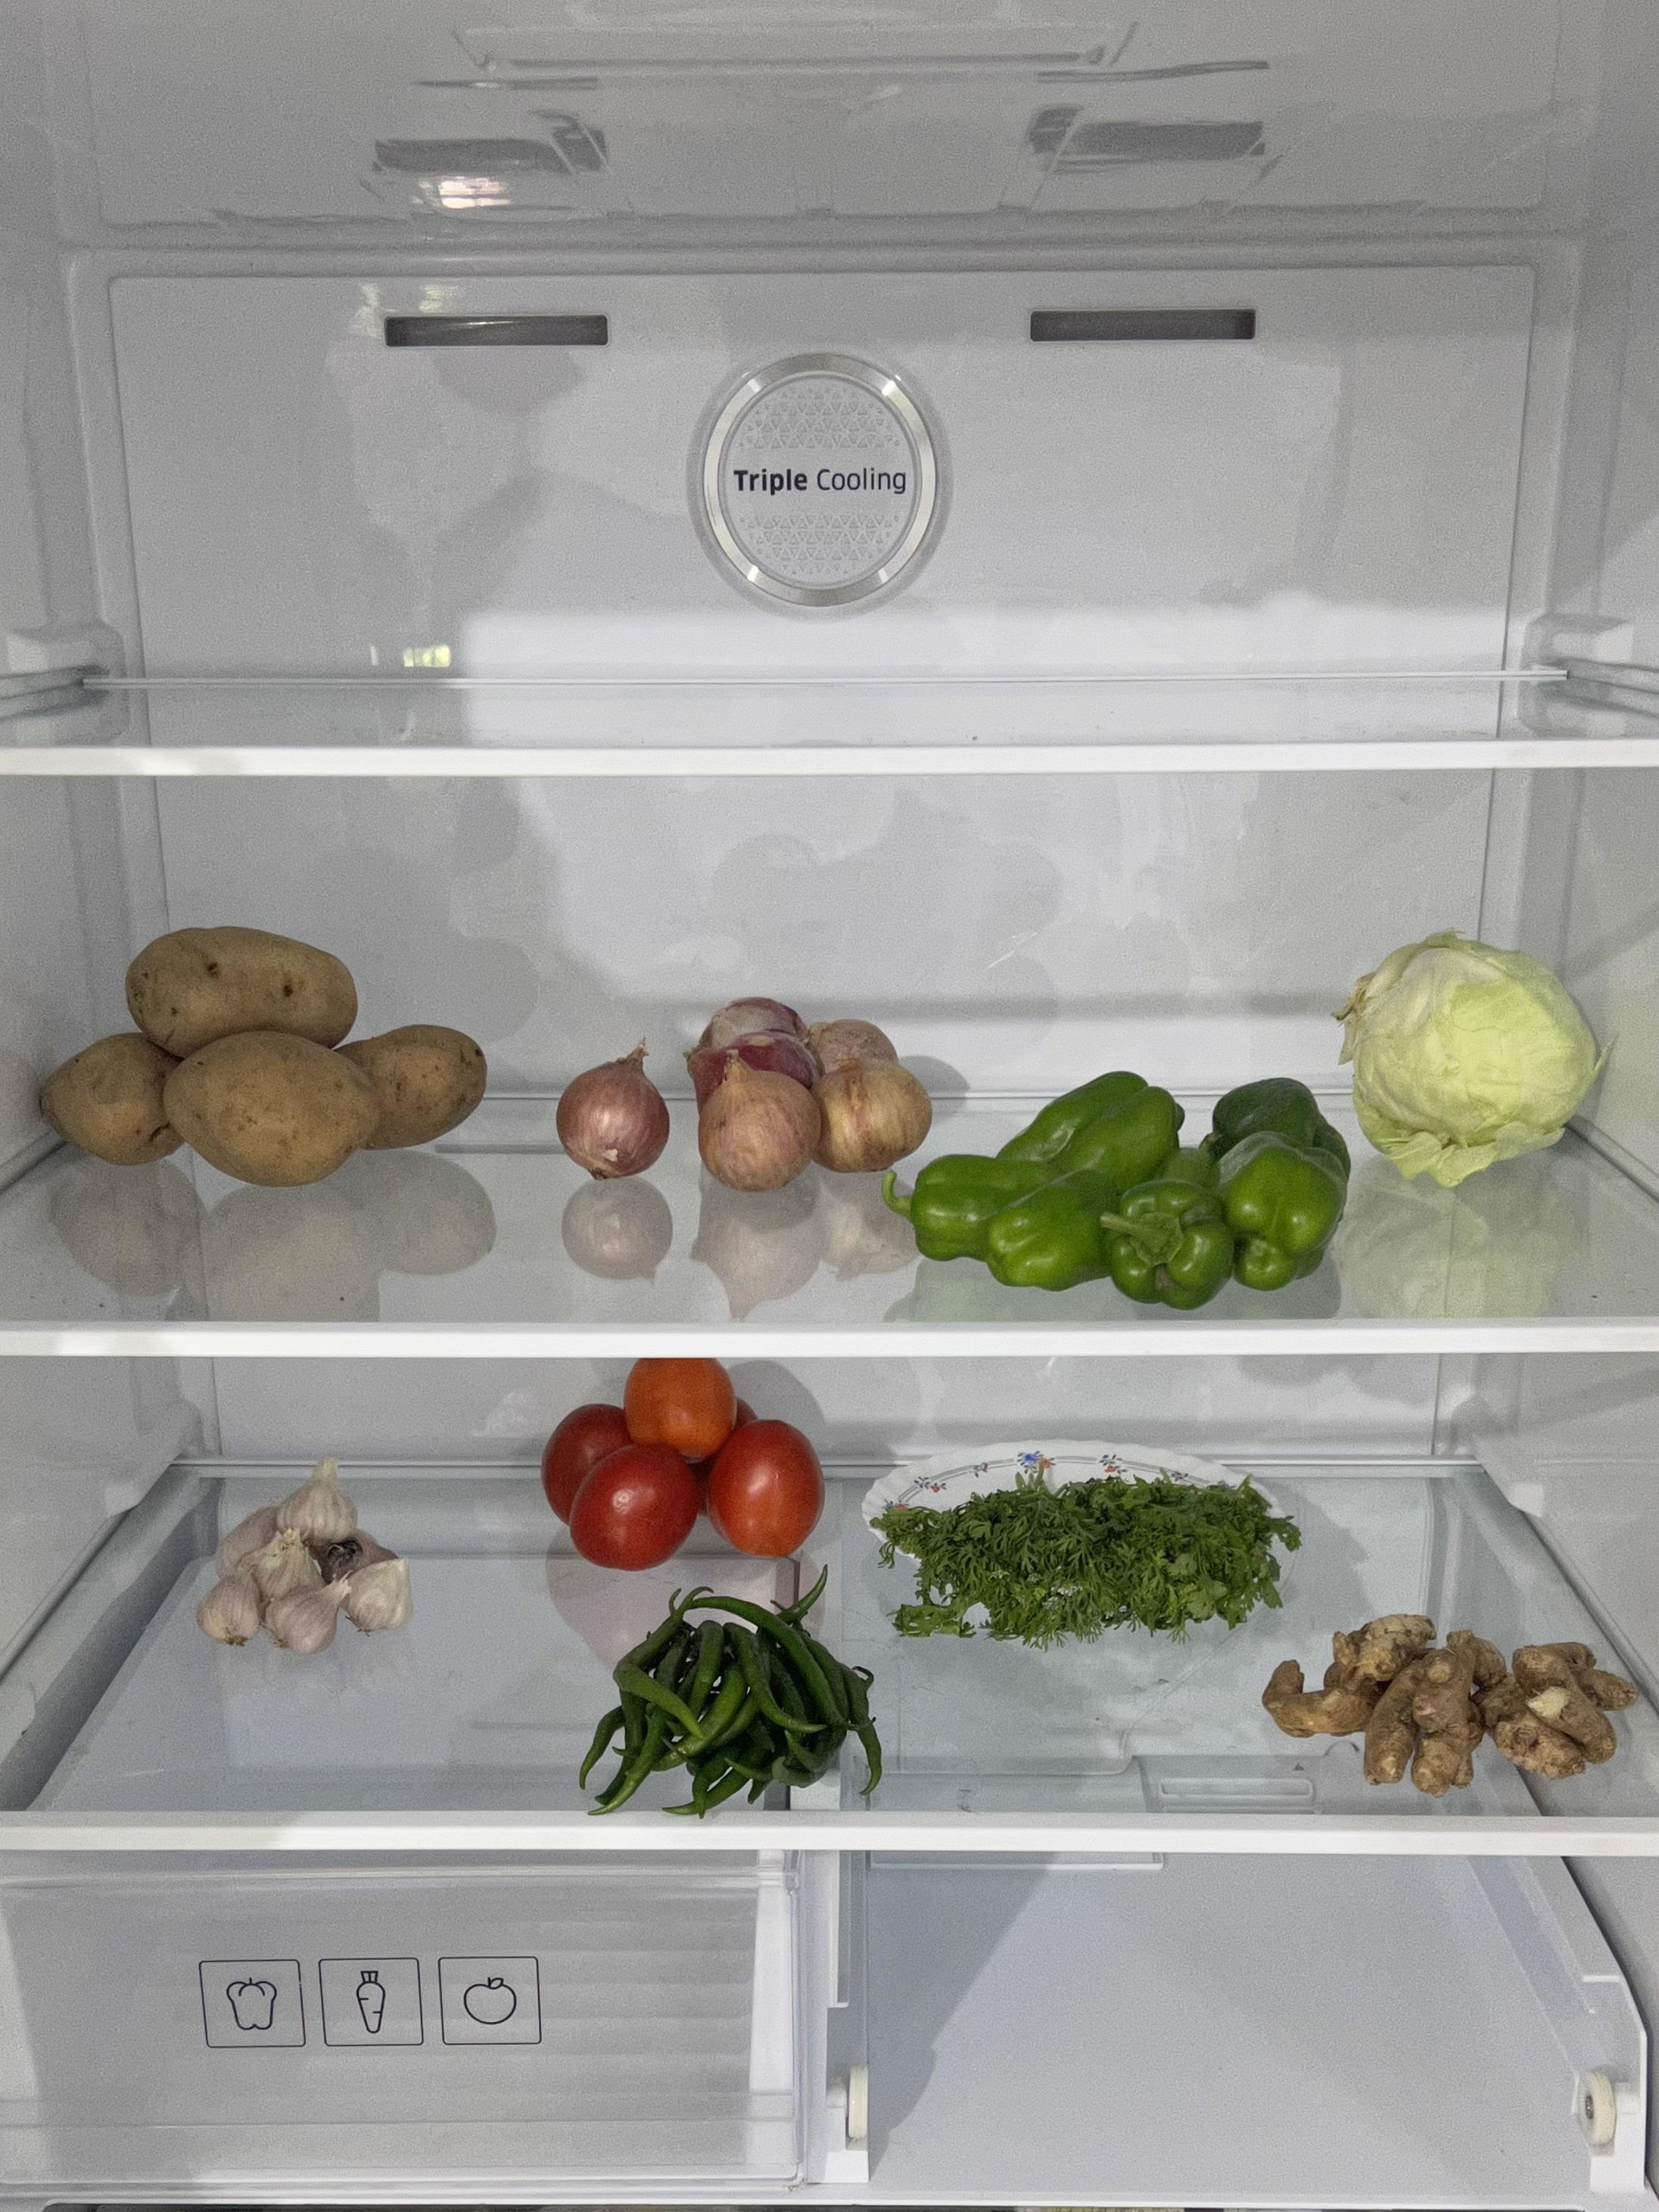cabbage: (1337, 937, 1598, 1169)
capsicum: (903, 1069, 1349, 1306)
chillies: (599, 1587, 882, 1792)
coriander: (877, 1465, 1286, 1649)
garlic: (193, 1461, 416, 1655)
ginger: (1265, 1615, 1635, 1796)
onion: (559, 996, 929, 1190)
potato: (45, 920, 484, 1183)
tomato: (537, 1352, 826, 1569)
